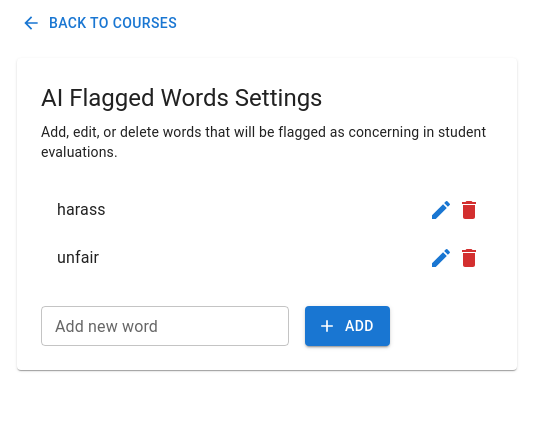
it: Settings: flagged words › shows an error when a change fails, and keeps the list as it was
The width and height of the screenshot is (535, 429).
expect the text "harass" is shown: met, box x1=57 y1=200 x2=106 y2=219
Click the 3rd button at (469, 210), box x1=449 y1=190 x2=489 y2=230
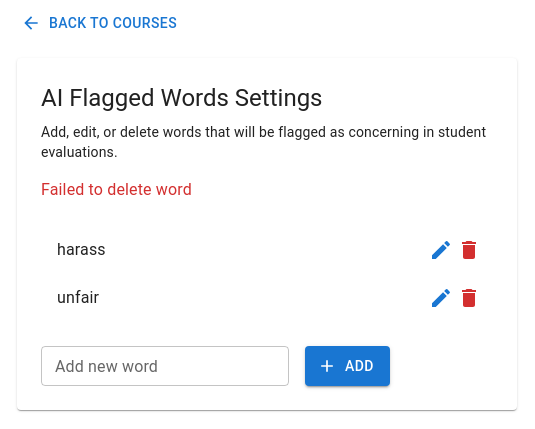
expect the text "harass" is shown: met, box x1=57 y1=240 x2=106 y2=259
expect the text "Failed to delete word" is shown: met, box x1=41 y1=180 x2=192 y2=199
Type "bully" into the field labelled "Add new word" at (165, 366), box x1=41 y1=346 x2=289 y2=386
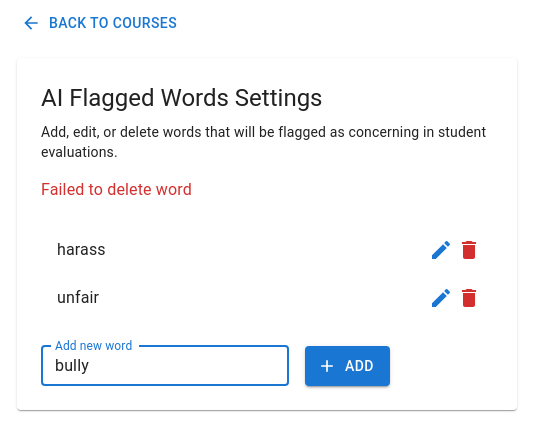
Click the button "Add" at (347, 366), box x1=305 y1=346 x2=390 y2=386
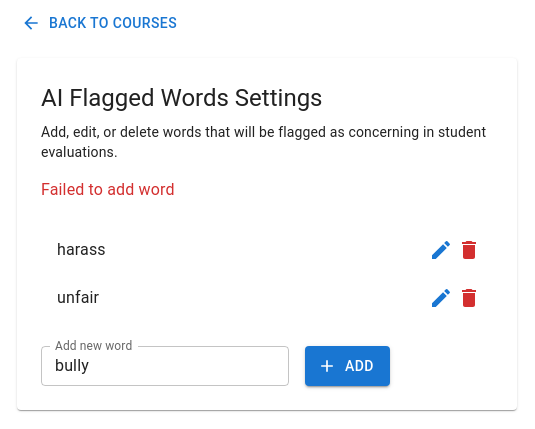
expect the text "Failed to add word" is shown: met, box x1=41 y1=180 x2=175 y2=199
